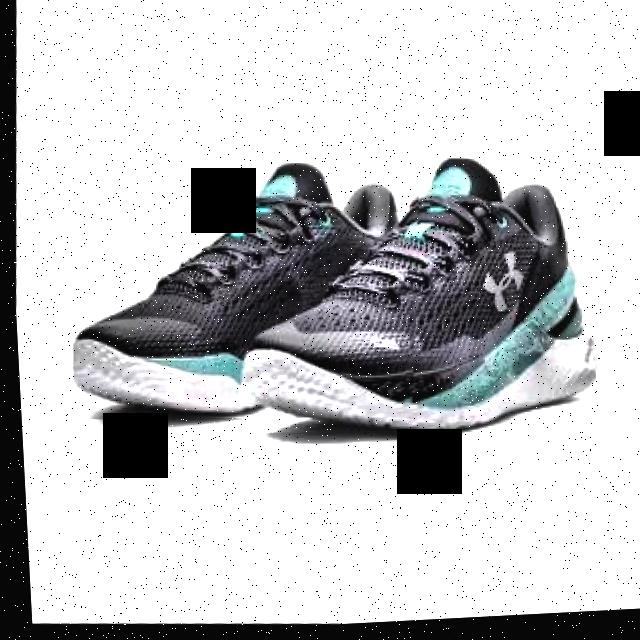shoe: (229, 147, 605, 453), (58, 150, 428, 438)
